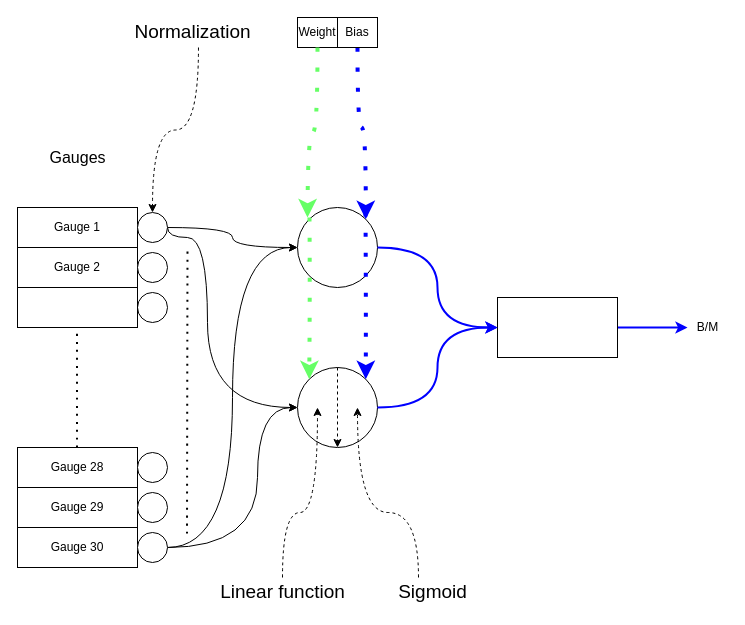
Image size: 745x625. Some labels were removed from this diagram. The shapes that lost their labels are listed below. From the top down, each one's centre as x and y in pixels, then its label:
At (77,307): "Gauge 3".
At (557,327): "SOFTMAX ARGMAX".
